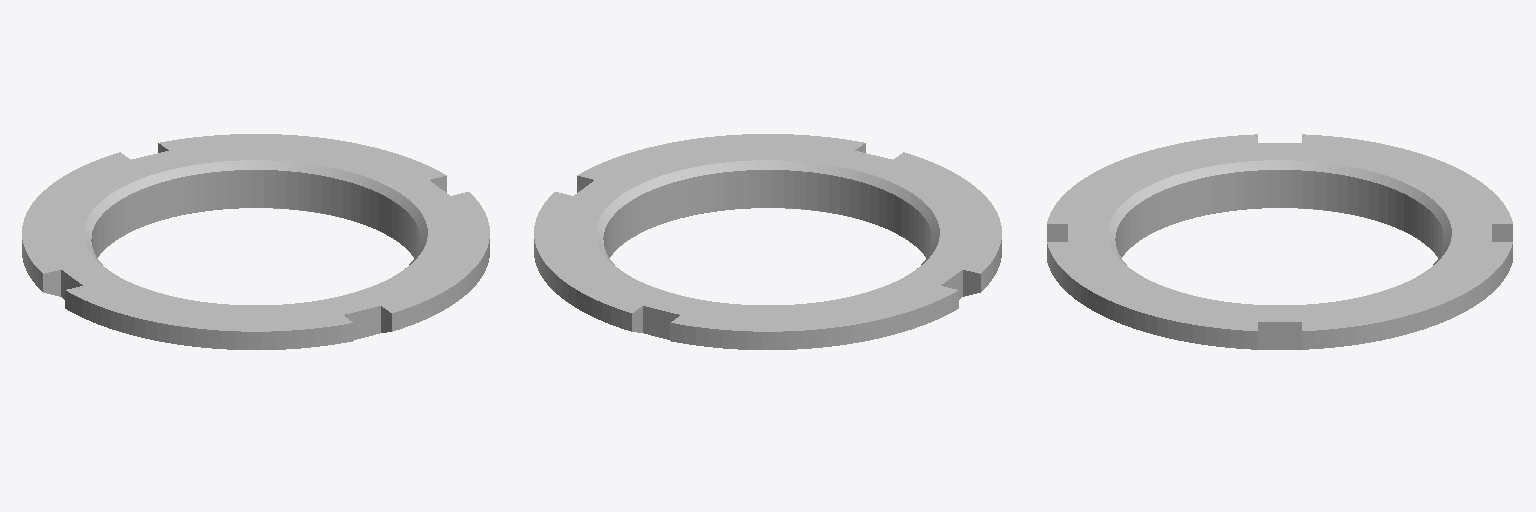
File: 76. Гайка первичного вала.obj
3 views of the same model, side by side, from view 1: azimuth 30°, elevation 25°; view 2: azimuth 150°, elevation 25°; view 3: azimuth 270°, elevation 25° (orthographic).
Visible parts, largest first — view 1: Твердое тело1; view 2: Твердое тело1; view 3: Твердое тело1.
Part boxes in pixels (x1,y1,x2,y2): Твердое тело1: (22, 134, 489, 349); Твердое тело1: (534, 134, 1001, 349); Твердое тело1: (1047, 134, 1512, 349).
Bounding box in the file's own units: 63.72 × 7 × 63.72.